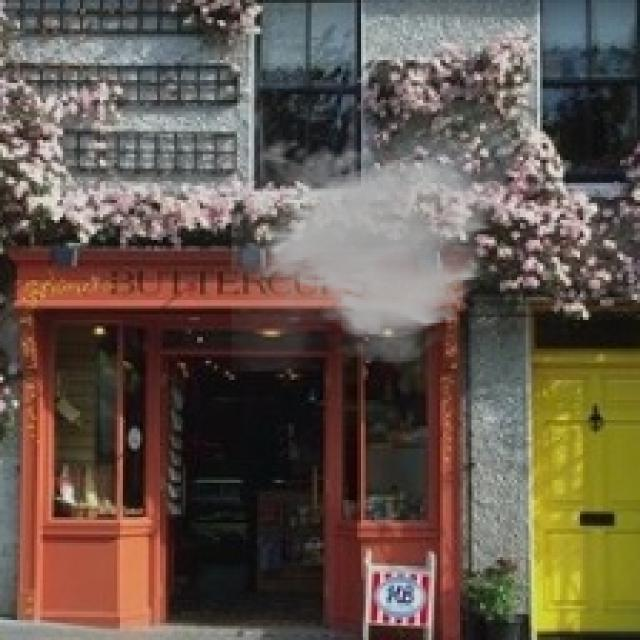smoke: (231, 132, 503, 372)
